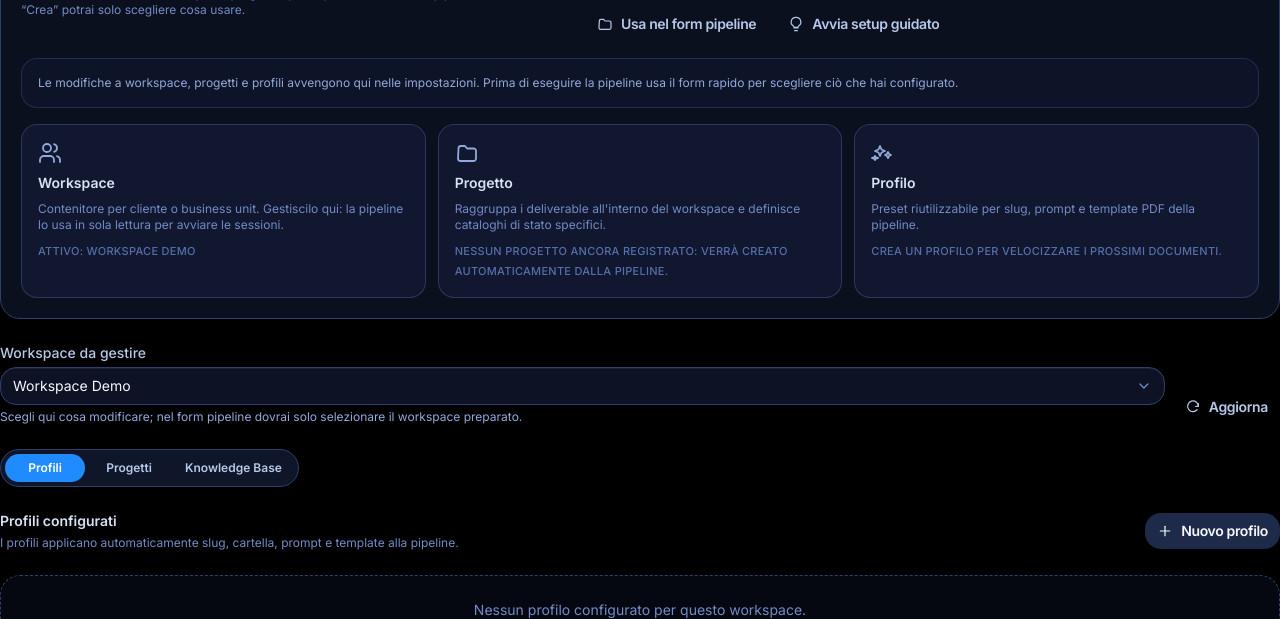
Scenario: WorkspaceProfilesManager › accumula messaggi di errore consecutivi per i progetti
The width and height of the screenshot is (1280, 619).
Click the button "Progetti" at coordinates (129, 468), box [89, 454, 169, 482]
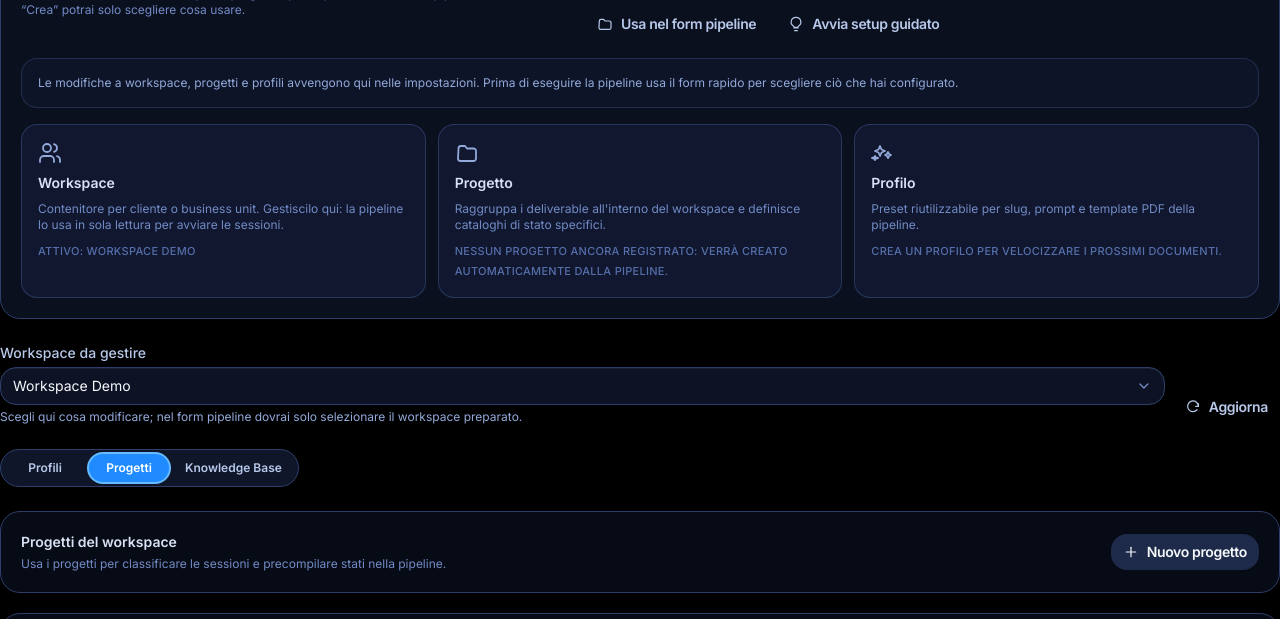
Click the button "Nuovo progetto" at coordinates (1185, 552), box [1111, 534, 1259, 570]
(page scrolled)
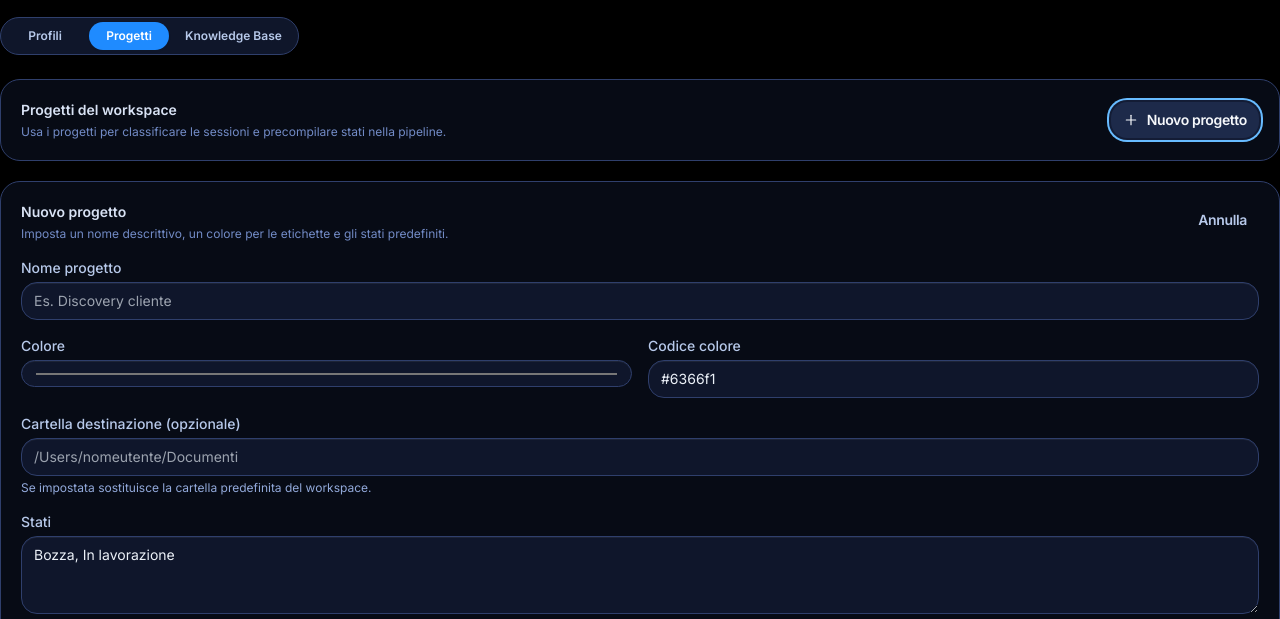
Type "Alpha" into the field labelled "Nome progetto" at coordinates (640, 301), box [21, 282, 1259, 320]
(page scrolled)
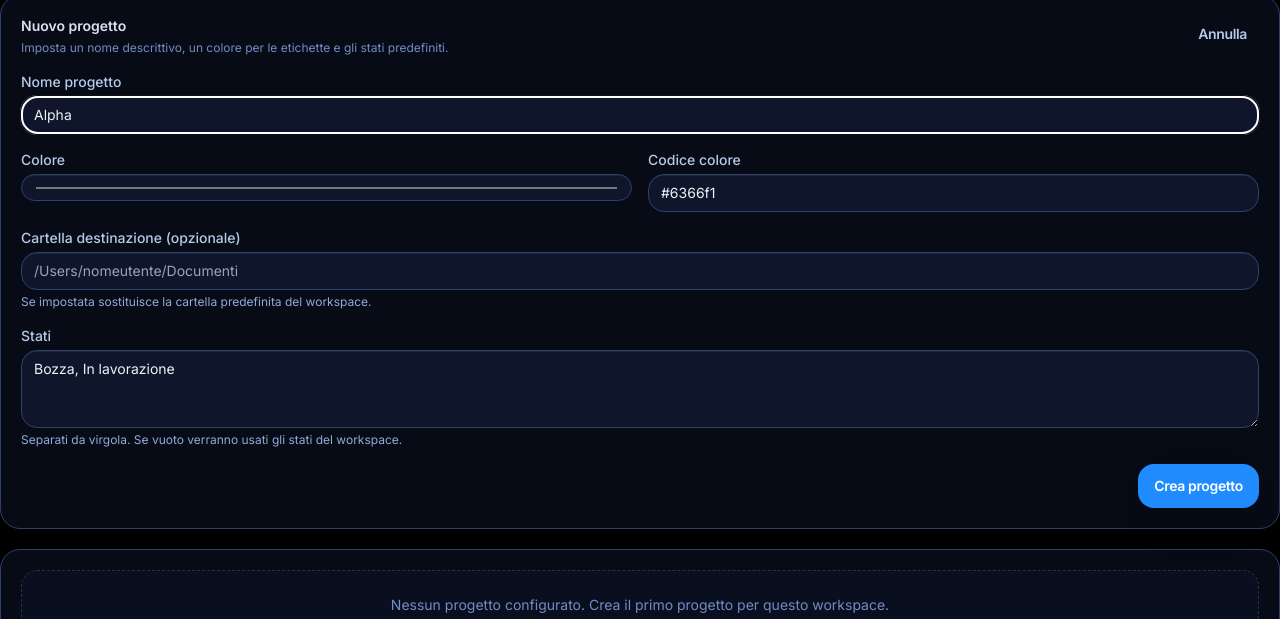
Click the button "Crea progetto" at coordinates (1199, 486), box [1138, 464, 1259, 508]
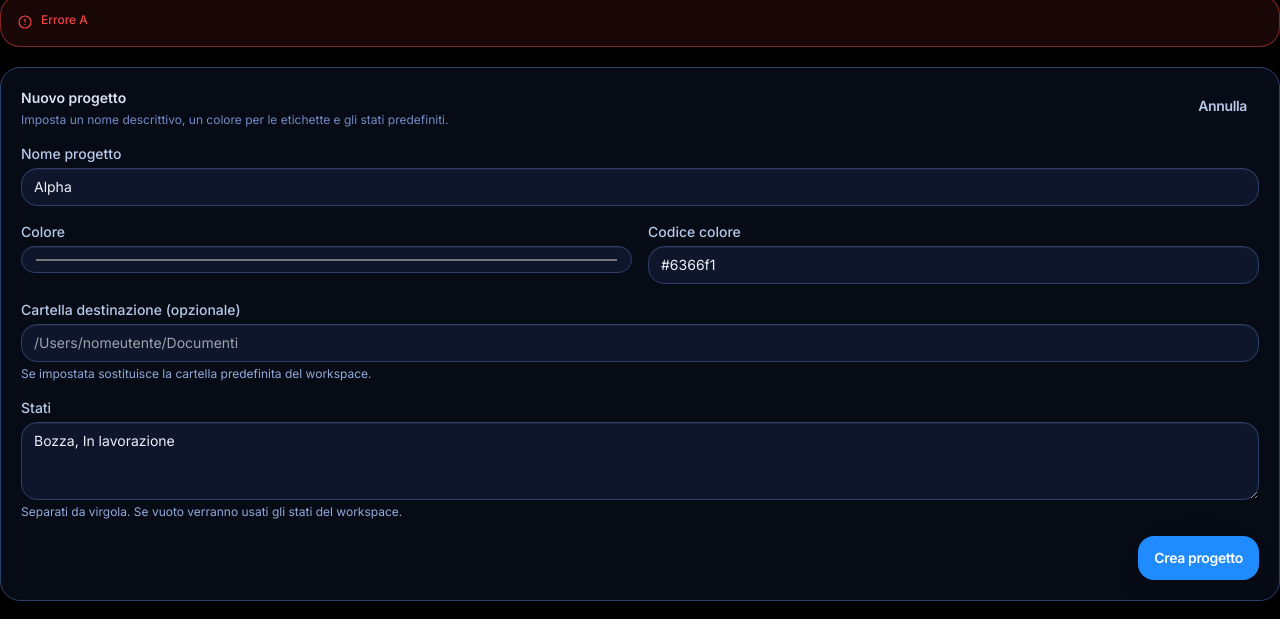
Expected: the text "Errore A" is shown, [41, 12, 88, 28]
Replace the text in the field labelled "Nome progetto" with "Beta" at coordinates (640, 187), box [21, 168, 1259, 206]
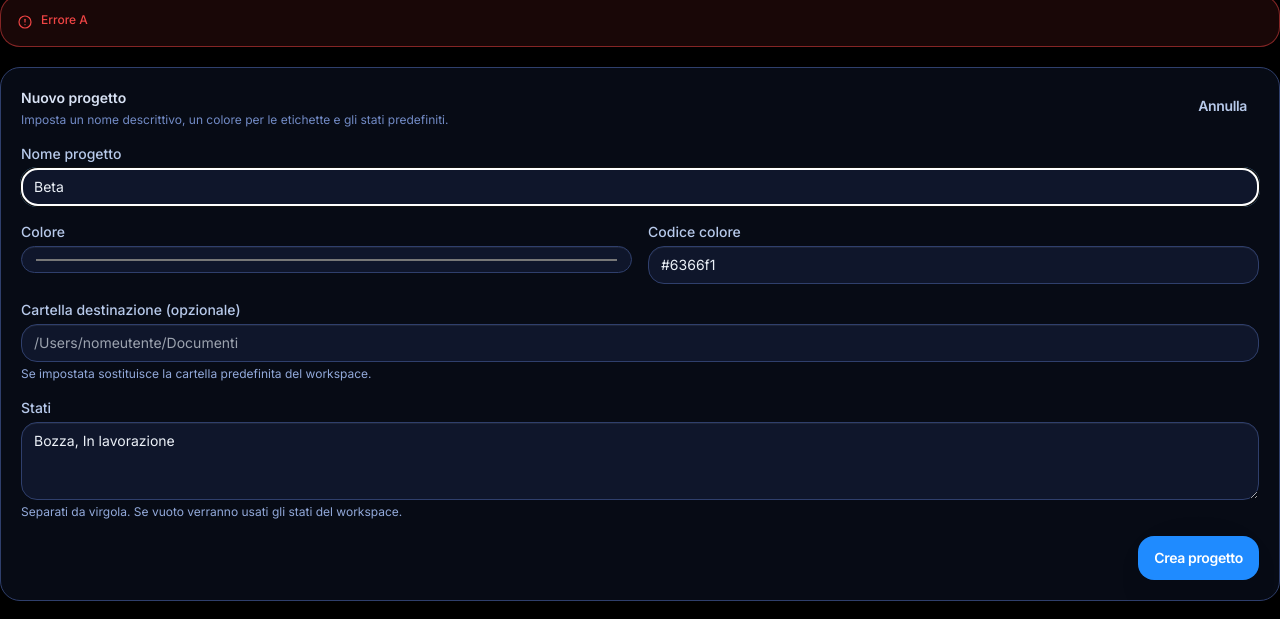
Click the button "Crea progetto" at coordinates (1199, 558), box [1138, 536, 1259, 580]
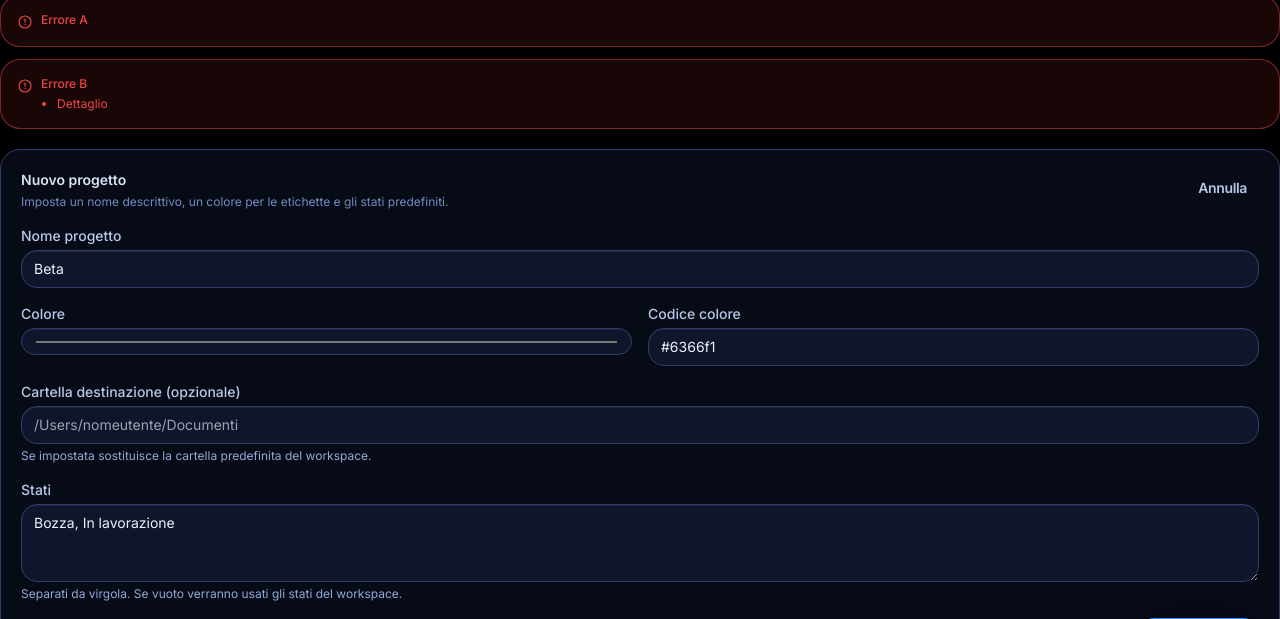
Expected: the text "Errore A" is shown, [41, 12, 88, 28]
Expected: the text "Errore B" is shown, [41, 76, 87, 91]
Expected: the list item "Dettaglio" is shown, [57, 96, 108, 112]
